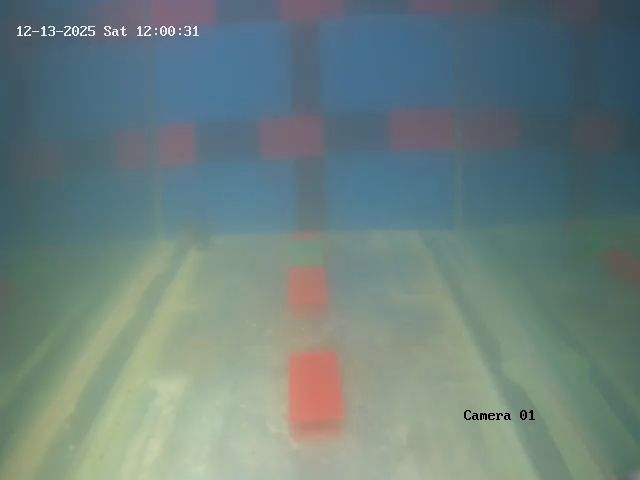fish: (159, 217, 219, 256)
